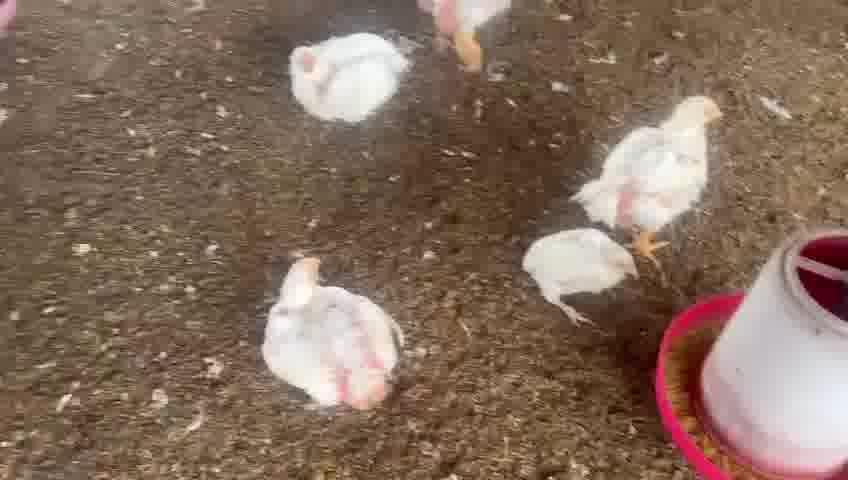AbNormal: (262, 256, 404, 412), (519, 227, 638, 325), (290, 35, 417, 125)
Normal: (592, 95, 723, 251)
